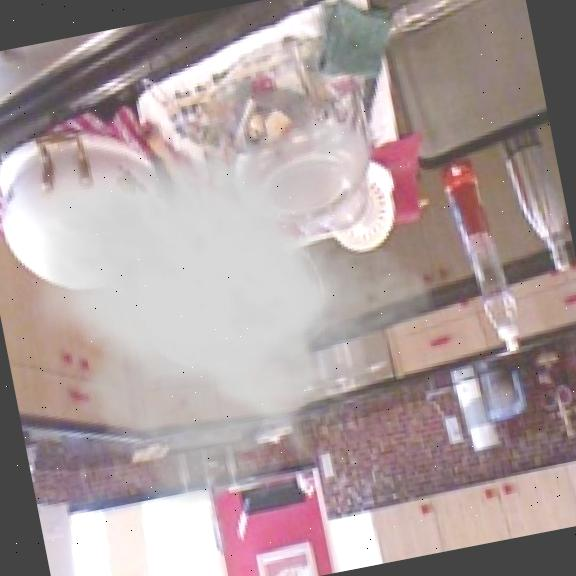smoke: (0, 91, 465, 535)
